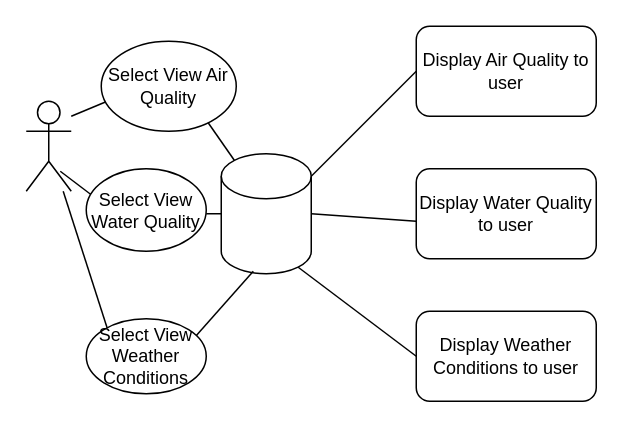
Some shapes in this 623 by 428 pixel diagram are drawn without their labels. The shapes that lost their labels are listed below. From the top down, each one's centre as x and y in pixels, then its label:
At point (48, 145): "User".
At point (265, 213): "Database".
